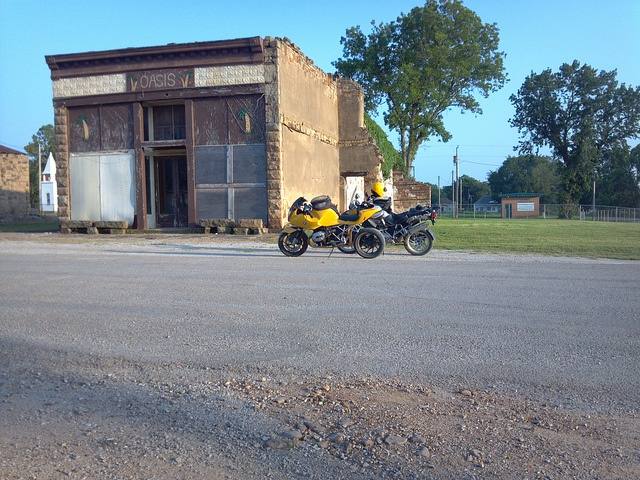non-vehicle: (277, 195, 387, 261), (337, 193, 435, 256)
